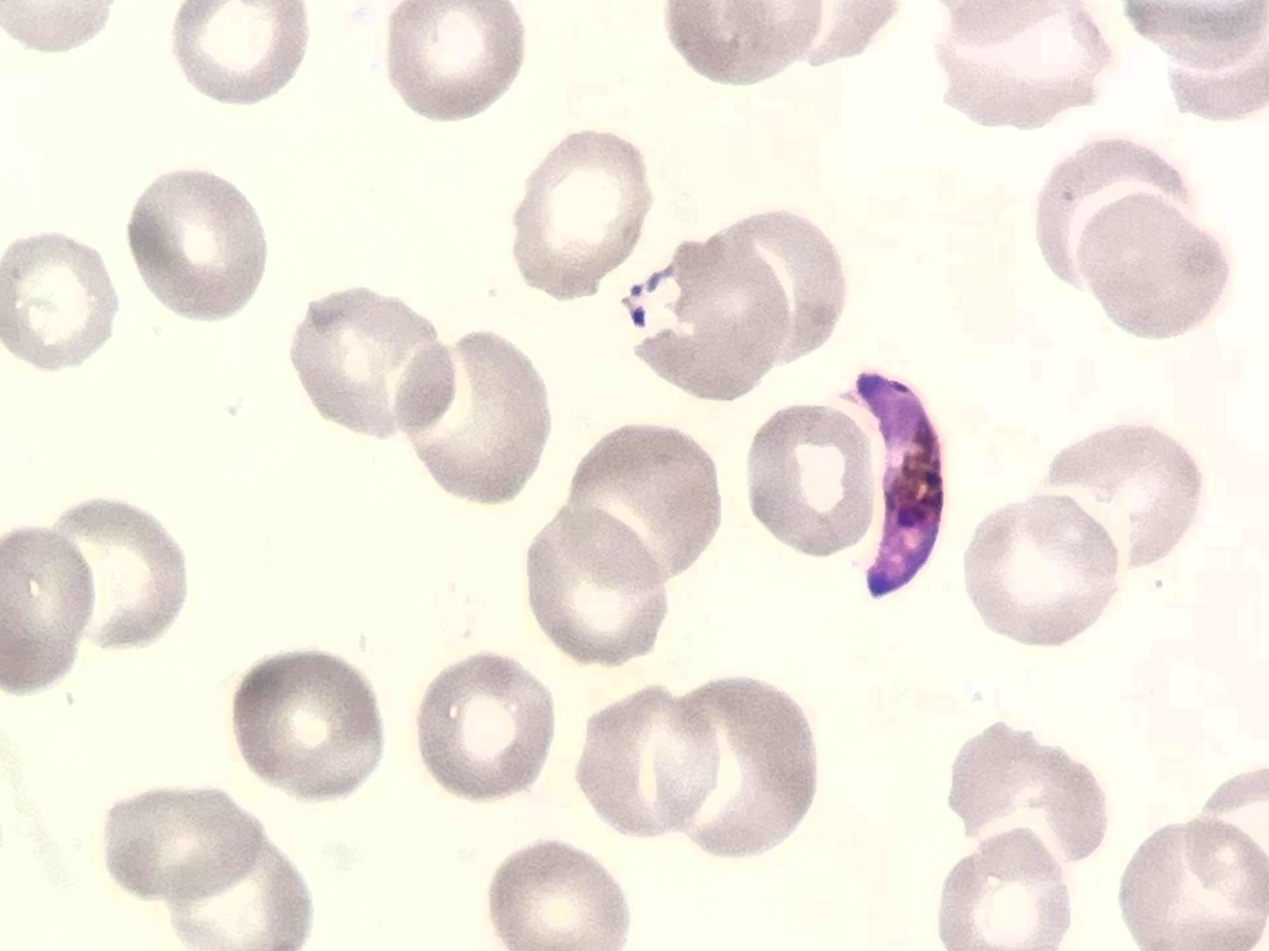Infected: (625, 237, 787, 400), (838, 372, 943, 600)
Uninfected: (661, 673, 818, 855), (387, 332, 552, 505), (563, 422, 720, 590), (288, 289, 455, 441), (509, 128, 655, 298), (948, 722, 1107, 878), (963, 491, 1119, 649), (935, 0, 1107, 136), (1034, 137, 1197, 280), (706, 212, 845, 379), (235, 648, 385, 802), (525, 508, 668, 666), (1074, 192, 1225, 339), (1041, 427, 1202, 564), (127, 167, 269, 321), (46, 498, 188, 650), (744, 405, 877, 559), (416, 653, 555, 799), (580, 686, 716, 835), (1120, 820, 1269, 951), (99, 792, 265, 905), (385, 0, 525, 121), (165, 838, 313, 951), (0, 230, 122, 367), (939, 828, 1071, 951), (0, 527, 97, 692), (486, 843, 630, 951), (169, 0, 313, 104)
